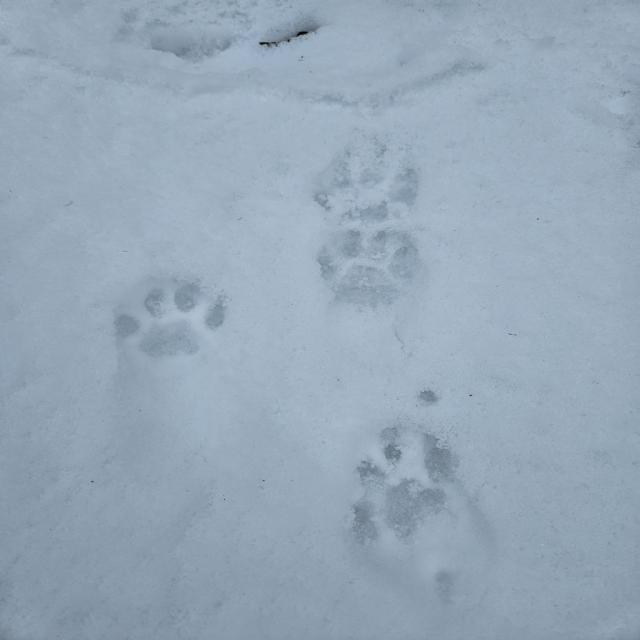felid: (315, 228, 423, 312), (357, 437, 468, 518), (122, 281, 228, 364)
